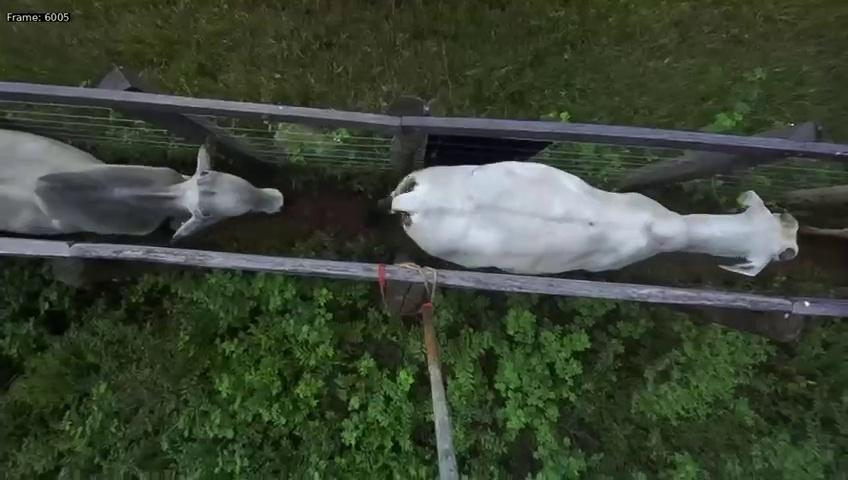cattle: (374, 153, 808, 290), (0, 115, 302, 253)
